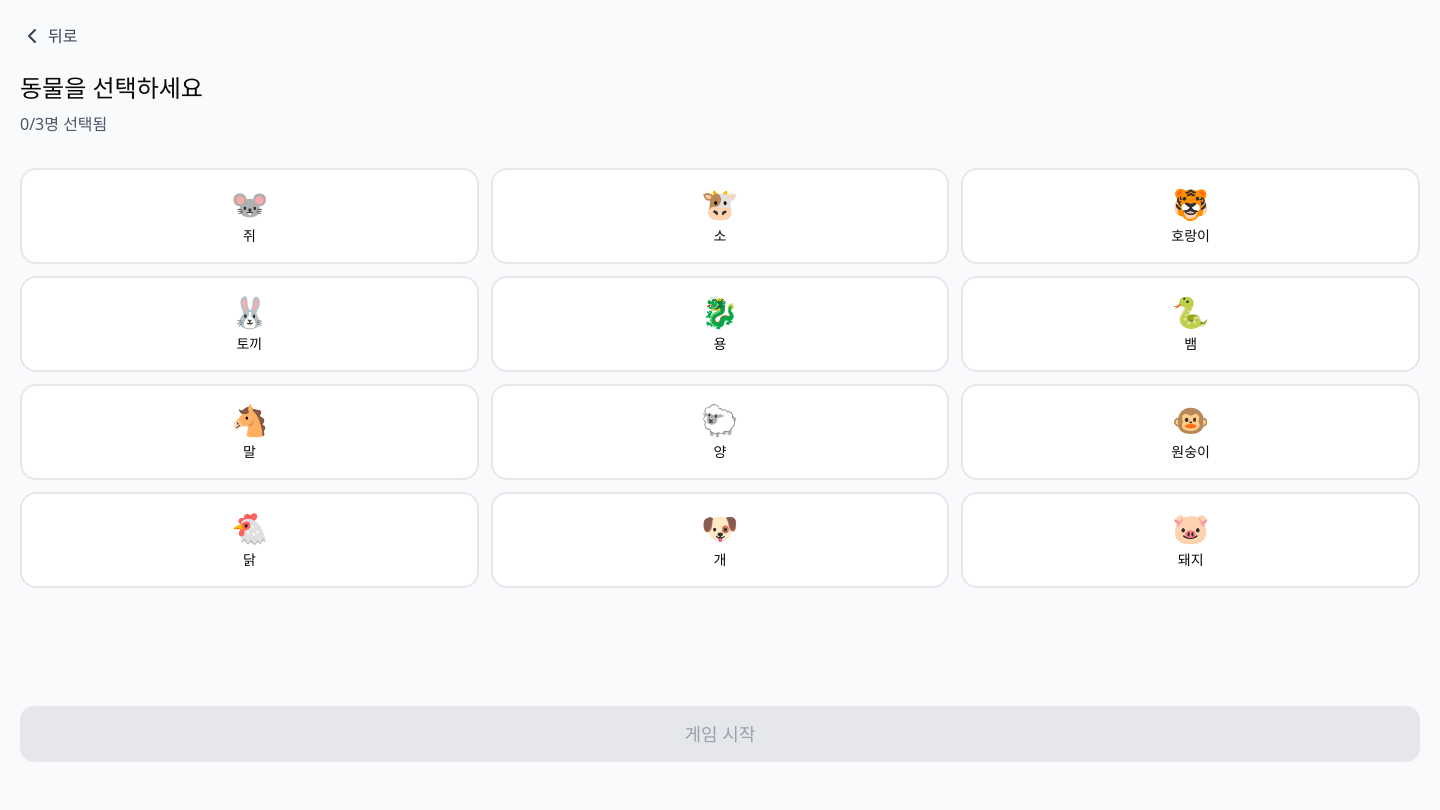
Test: AnimalSelection › disables start button until correct number selected
The image size is (1440, 810).
Check: the button "게임 시작" is disabled, box [20,706,1420,762]
What coordinates should you click on to do the following:
click the text "쥐"
I would click on:
 (249, 236)
Its box is [243,226,256,246].
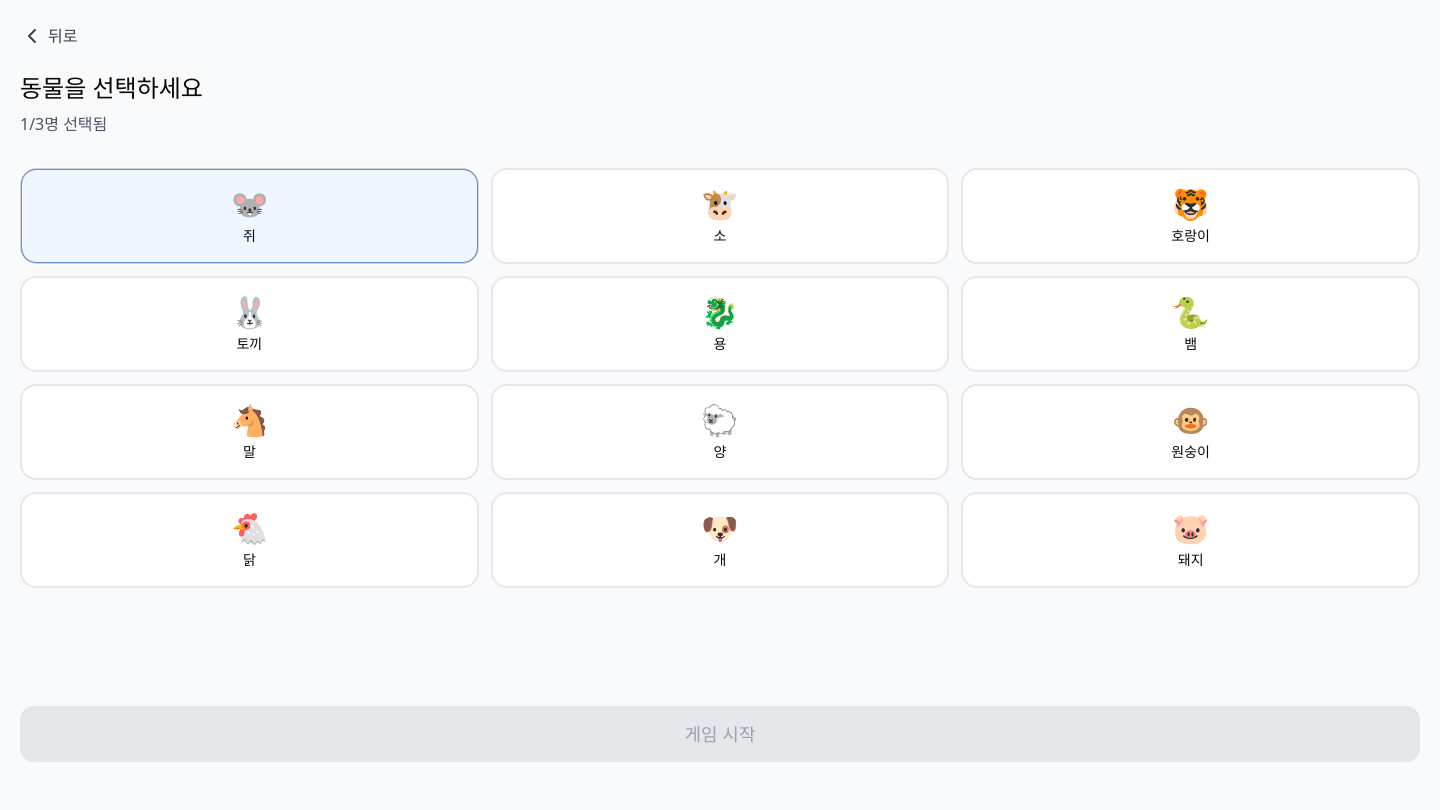
What coordinates should you click on to do the following:
click the text "소"
I would click on:
 (720, 236)
Its box is [714,226,726,246].
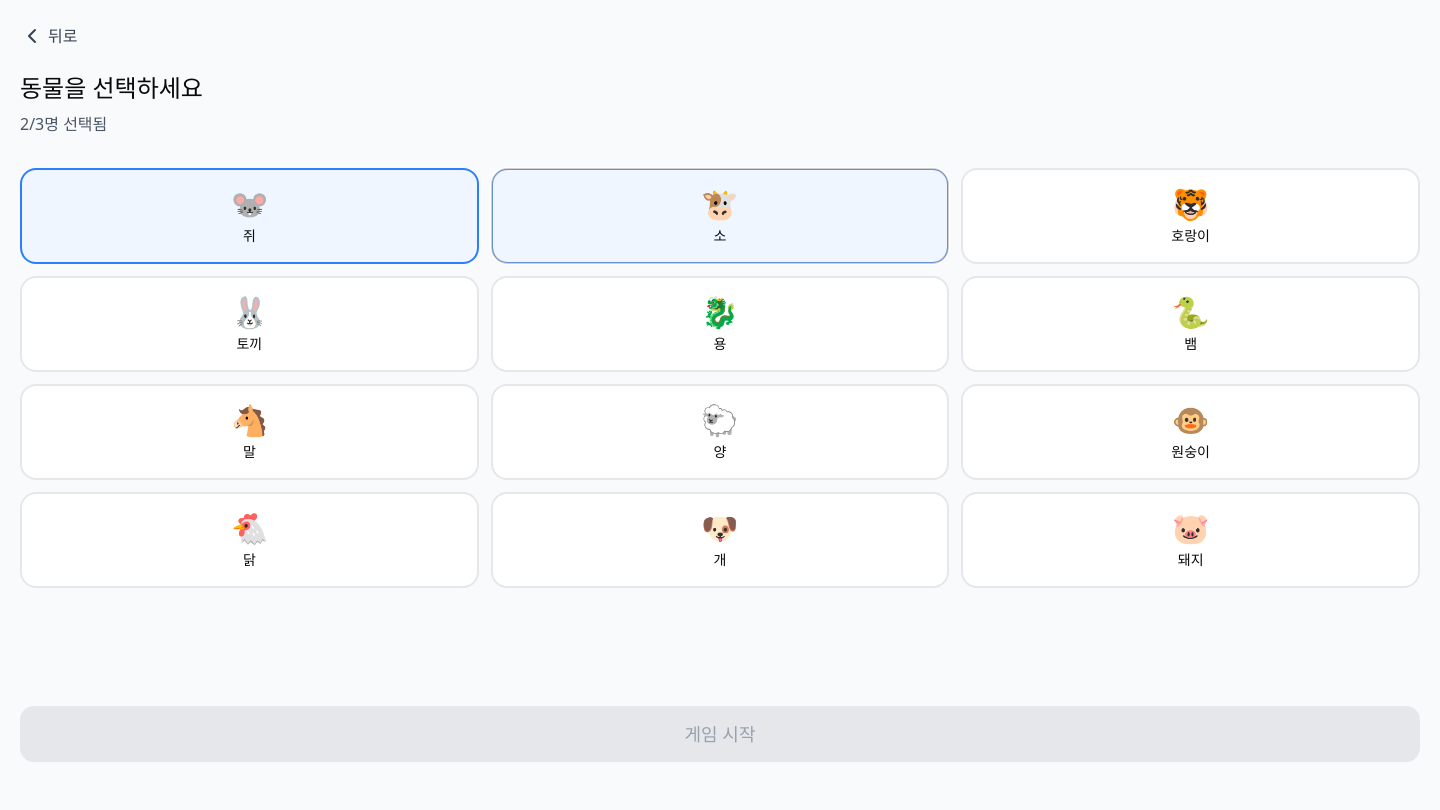
Check: the button "게임 시작" is disabled, box [20,706,1420,762]
What coordinates should you click on to do the following:
click the text "호랑이"
I would click on:
 (1191, 236)
Its box is [1171,226,1210,246].
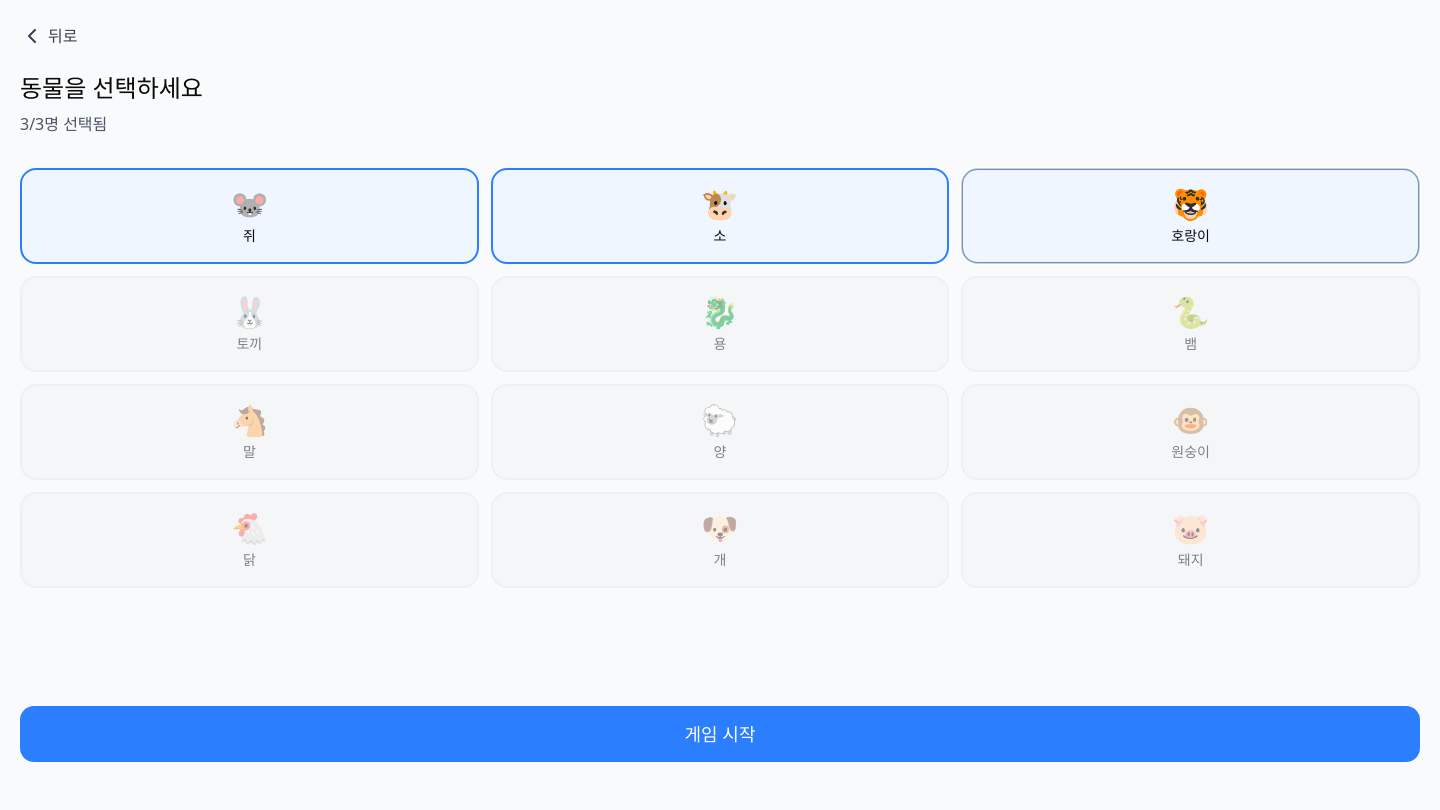
Check: the button "게임 시작" is enabled, box [20,706,1420,762]
